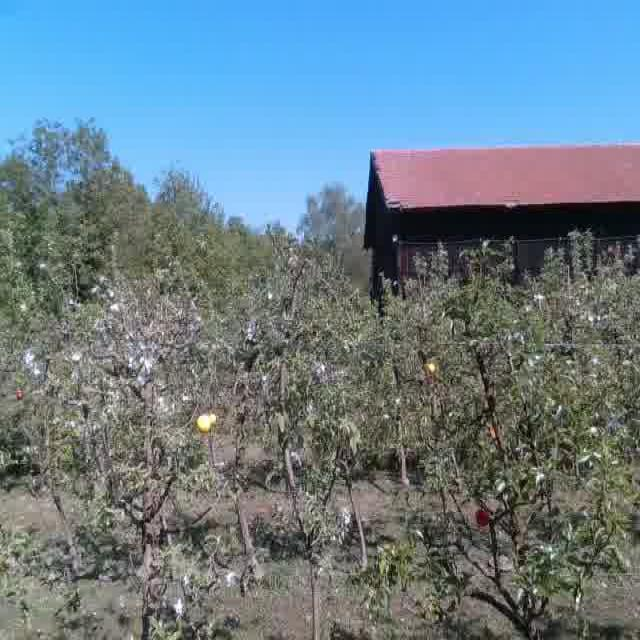red: (471, 500, 496, 530)
yellow: (193, 411, 219, 436), (426, 358, 439, 377)
